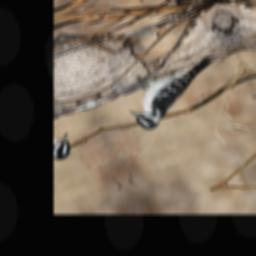Woodpecker: (116, 47, 236, 134)
